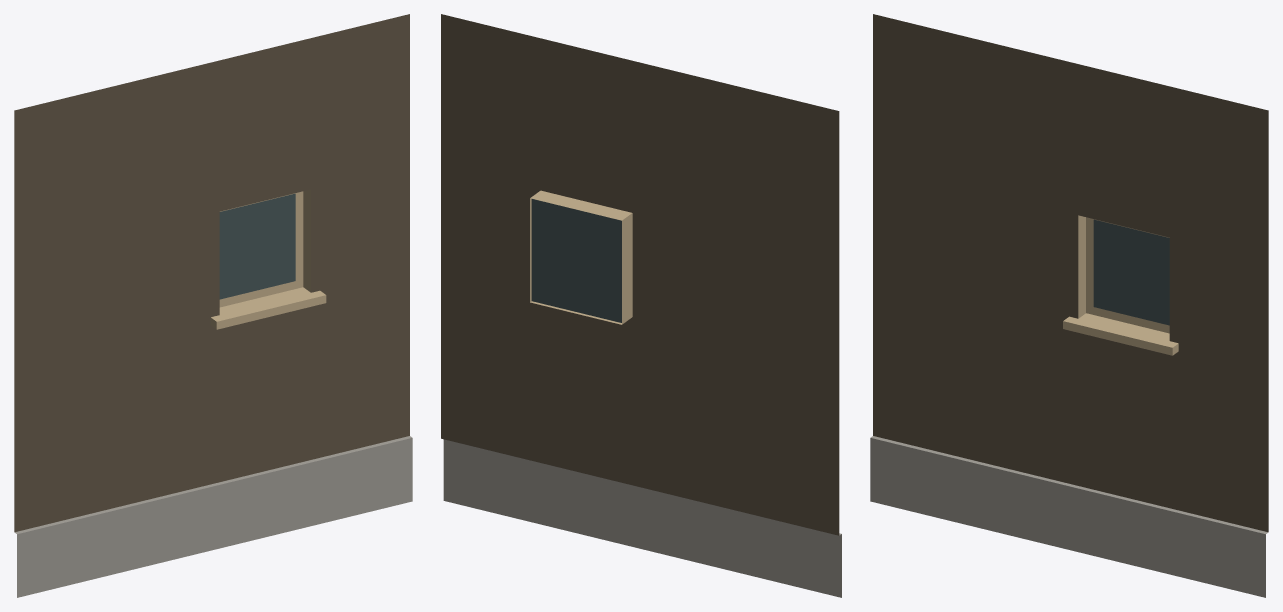
The picture shows the model from 3 angles, left to right: view 1: azimuth 30°, elevation 25°; view 2: azimuth 150°, elevation 25°; view 3: azimuth 330°, elevation 25°; orthographic projection.
Visible parts, largest first — view 1: a2015/400/base-w2; view 2: a2015/400/base-w2; view 3: a2015/400/base-w2.
Boxes of the visible parts, x1,y1,x2,y2 form: a2015/400/base-w2: (14, 14, 412, 597); a2015/400/base-w2: (441, 14, 841, 597); a2015/400/base-w2: (870, 14, 1268, 597).
Bounding box in the file's own units: 2.6 × 3.05 × 0.19.
